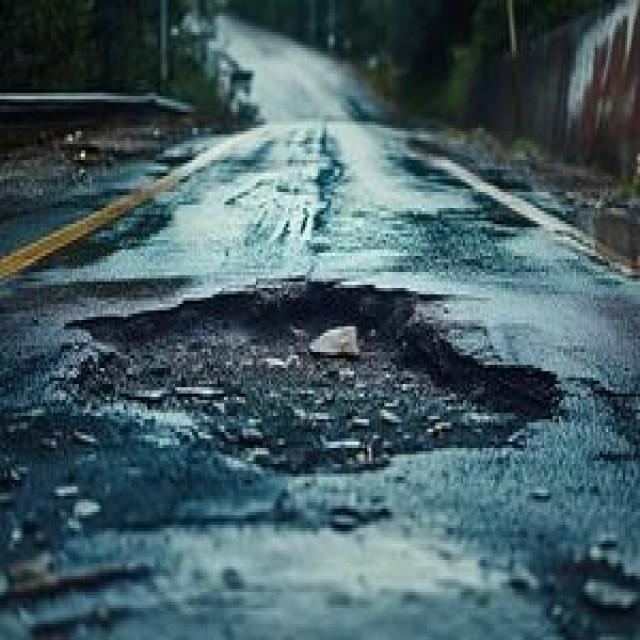road collapse: (0, 86, 640, 640)
